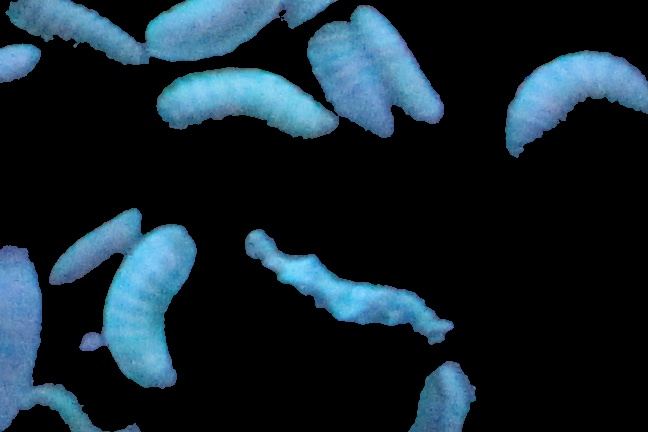larvae: (508, 39, 648, 163), (157, 64, 337, 142), (101, 226, 186, 389), (7, 1, 144, 79), (309, 22, 393, 147), (360, 5, 444, 127), (149, 1, 313, 56), (51, 211, 139, 288)
